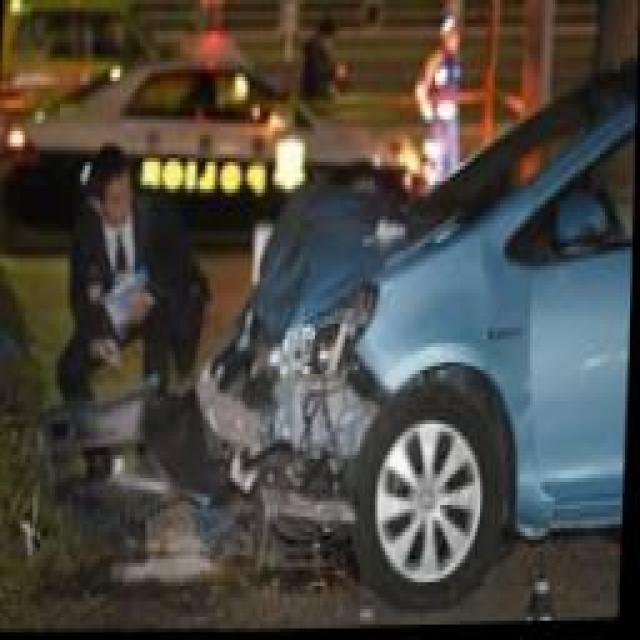Bonnet: (243, 186, 469, 350)
Bumper: (41, 331, 379, 561)
Fender: (359, 228, 543, 485)
Light: (285, 298, 369, 378)
